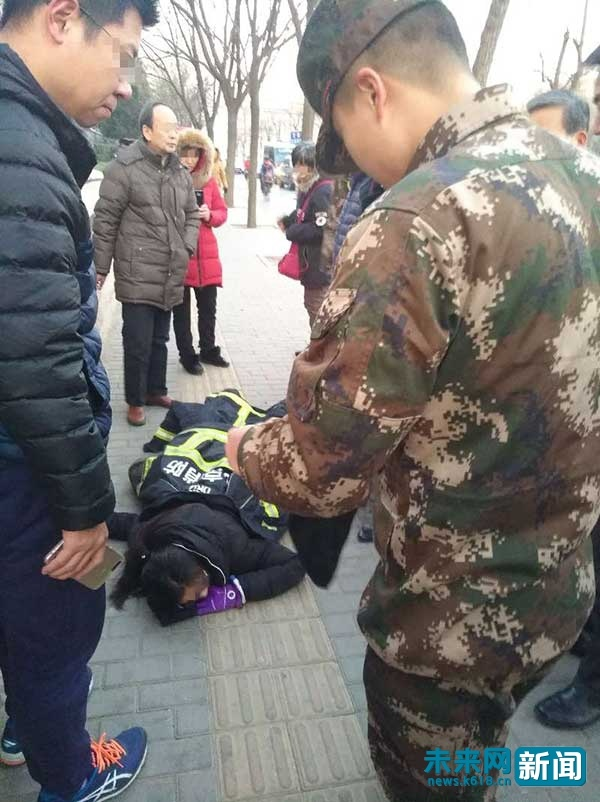falling: (104, 371, 316, 656)
